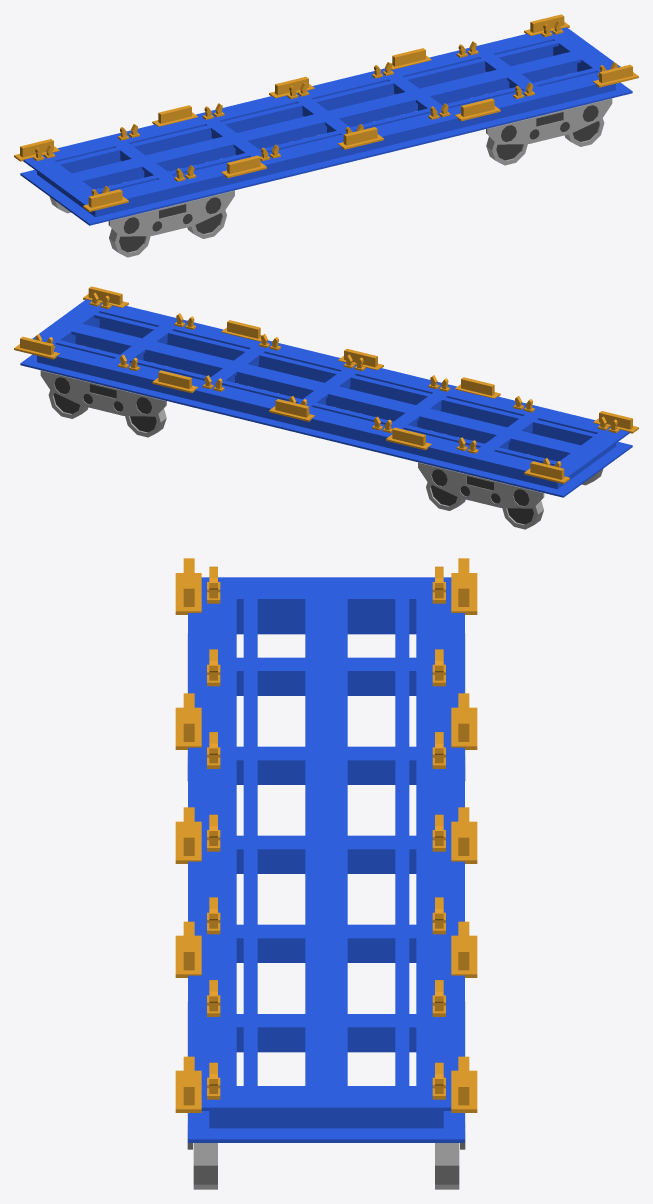
File: 集装箱平车.FBX
3 views of the same model, one above another, from view 1: azimuth 30°, elevation 25°; view 2: azimuth 150°, elevation 25°; view 3: azimuth 270°, elevation 25° (orthographic). The views are drawn at different scales.
Parts seen in each view (by area): view 1: 平车车身, 挡板, 轮胎架, 轮胎001, F-TR锁, 轮胎; view 2: 平车车身, 挡板, 轮胎架, 轮胎001, F-TR锁, 轮胎; view 3: 平车车身, 挡板, F-TR锁, 轮胎.
Boxes of the visible parts, x1=… form: 平车车身: x1=20, y1=27, x2=632, y2=225; 挡板: x1=14, y1=14, x2=638, y2=211; 轮胎架: x1=108, y1=98, x2=612, y2=236; 轮胎001: x1=119, y1=105, x2=599, y2=252; F-TR锁: x1=33, y1=20, x2=617, y2=195; 轮胎: x1=49, y1=118, x2=604, y2=257; 平车车身: x1=20, y1=299, x2=632, y2=497; 挡板: x1=14, y1=286, x2=638, y2=483; 轮胎架: x1=40, y1=370, x2=544, y2=508; 轮胎001: x1=53, y1=377, x2=533, y2=524; F-TR锁: x1=35, y1=292, x2=619, y2=467; 轮胎: x1=48, y1=390, x2=603, y2=529; 平车车身: x1=188, y1=577, x2=464, y2=1142; 挡板: x1=175, y1=558, x2=477, y2=1112; F-TR锁: x1=207, y1=566, x2=445, y2=1099; 轮胎: x1=193, y1=1143, x2=459, y2=1189.
Size of the model in its own units: 640 by 79.2 by 152.
